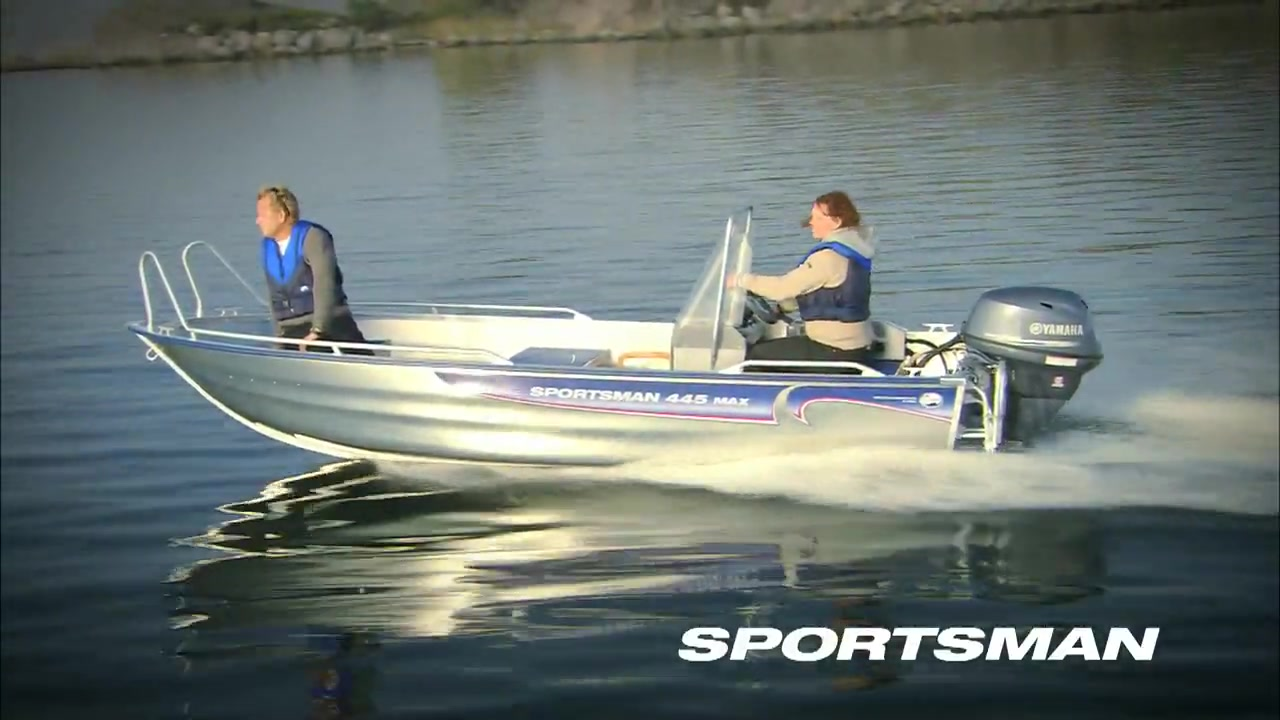boat: (126, 206, 1108, 479)
